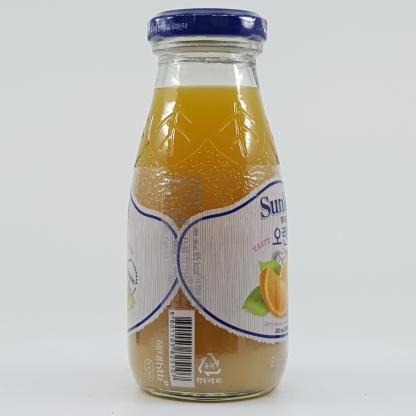----------180ML: (126, 8, 288, 401)
